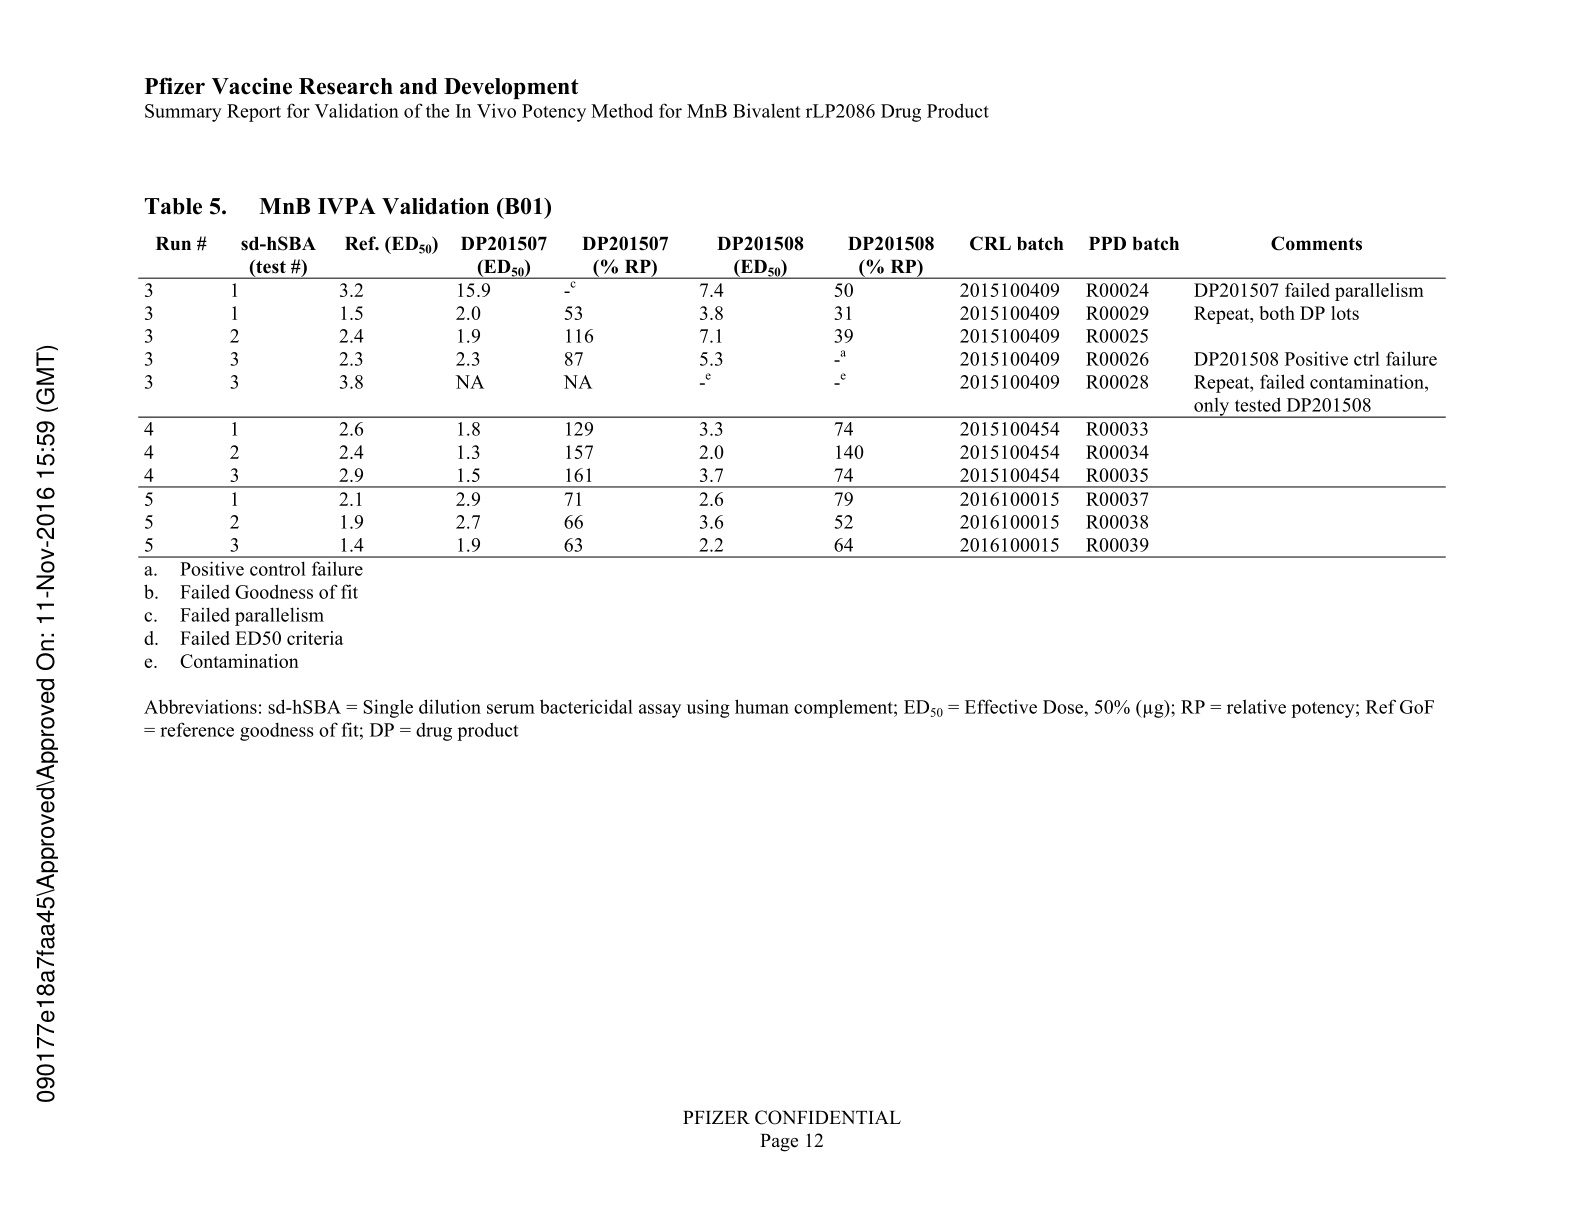partial_lined: (138, 230, 1452, 561)
